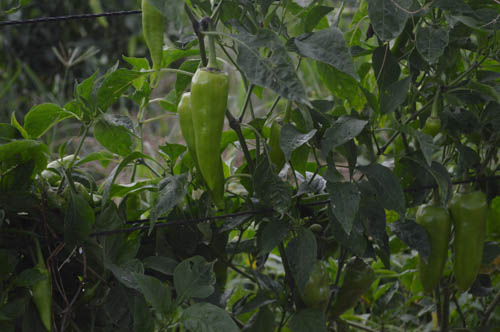ChiliPepper: (190, 70, 225, 190), (179, 92, 216, 194), (413, 204, 449, 292), (452, 193, 485, 284)
